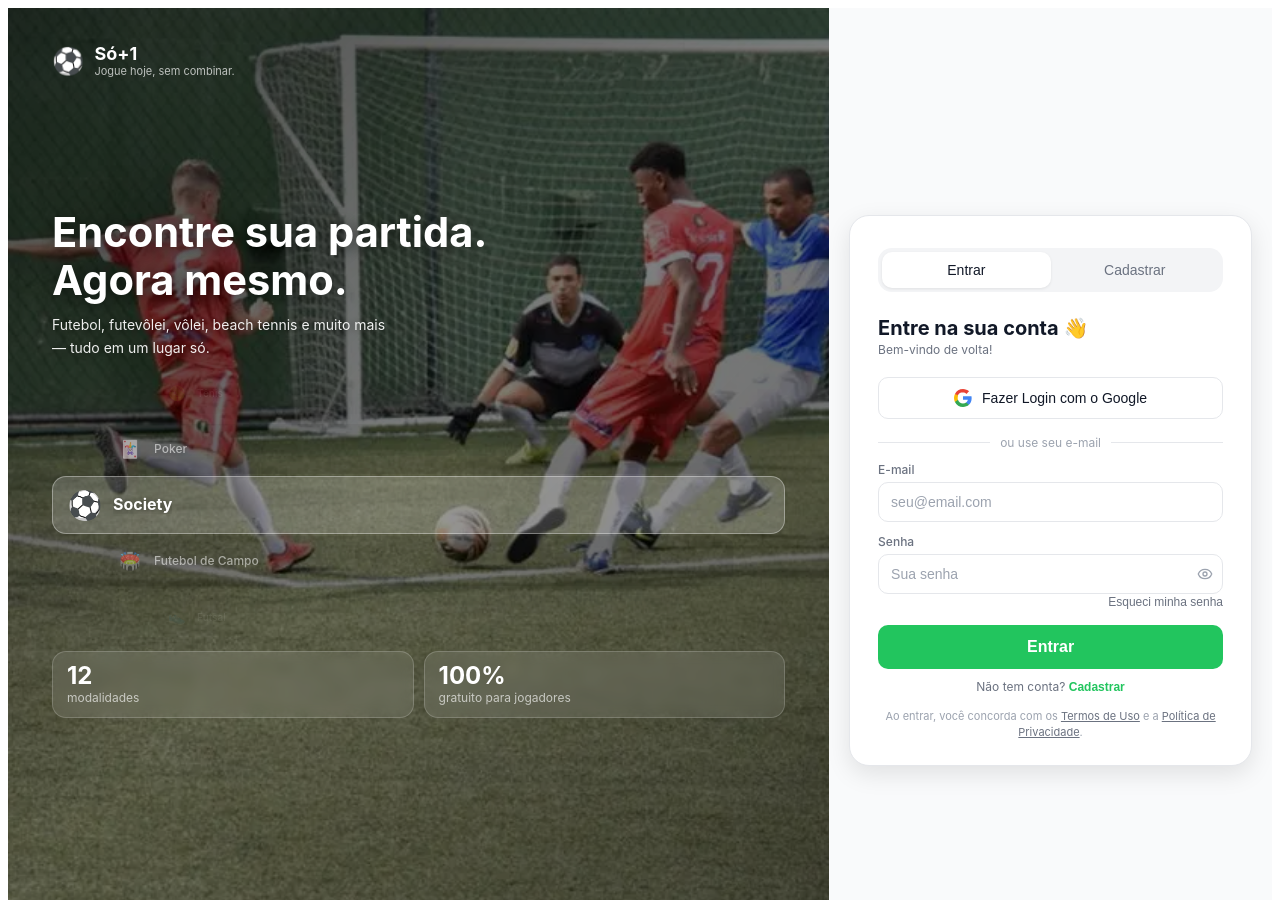
Scenario: Login — validação › cobra e-mail e senha quando o formulário vai vazio
What coordinates should you click on to do the following:
click the 2nd button "Entrar"
I would click on:
 (1051, 646)
Its box is [878, 624, 1223, 668].
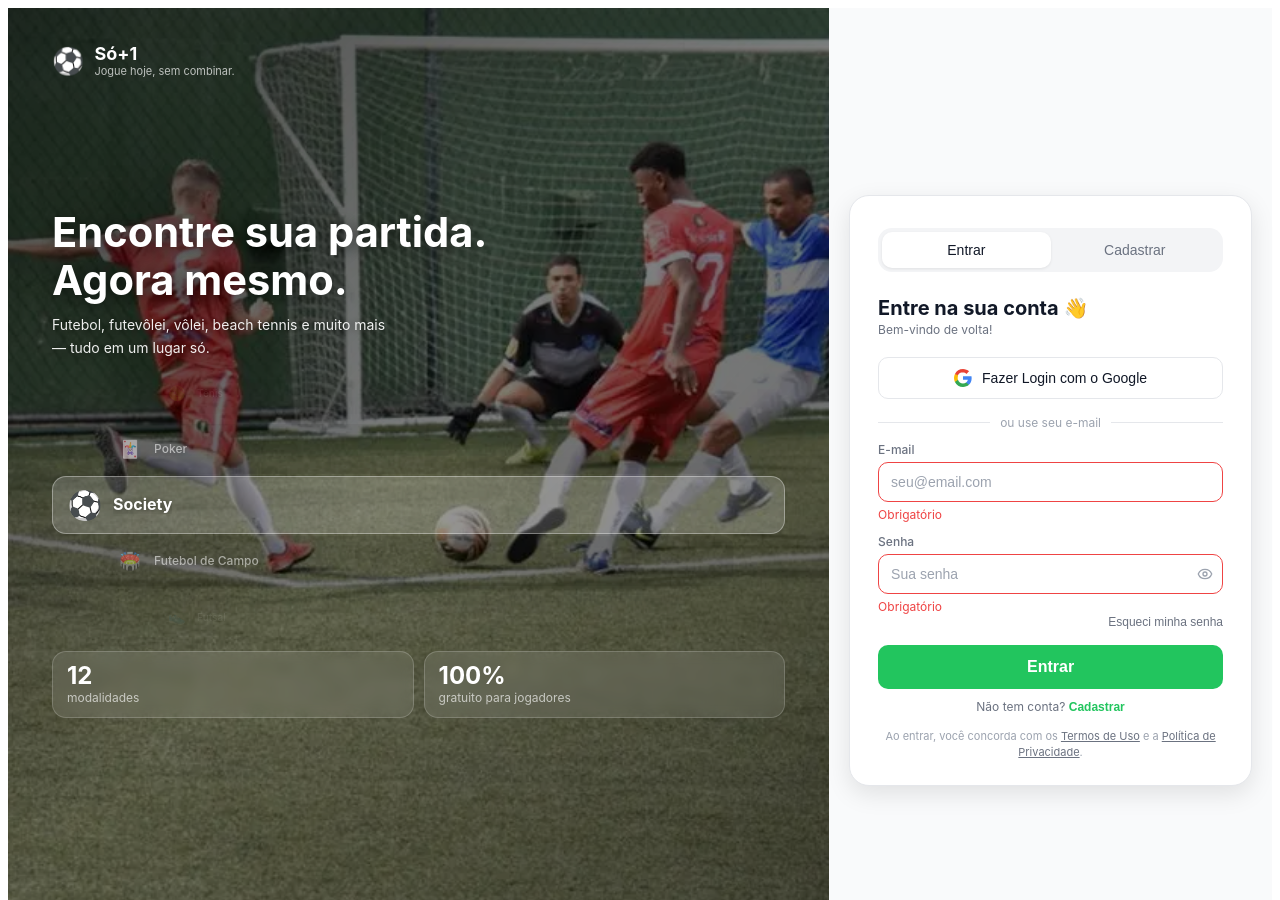
expect the text "Obrigatório" is shown 2 times: met, box [878, 506, 942, 522]; [878, 598, 942, 614]
